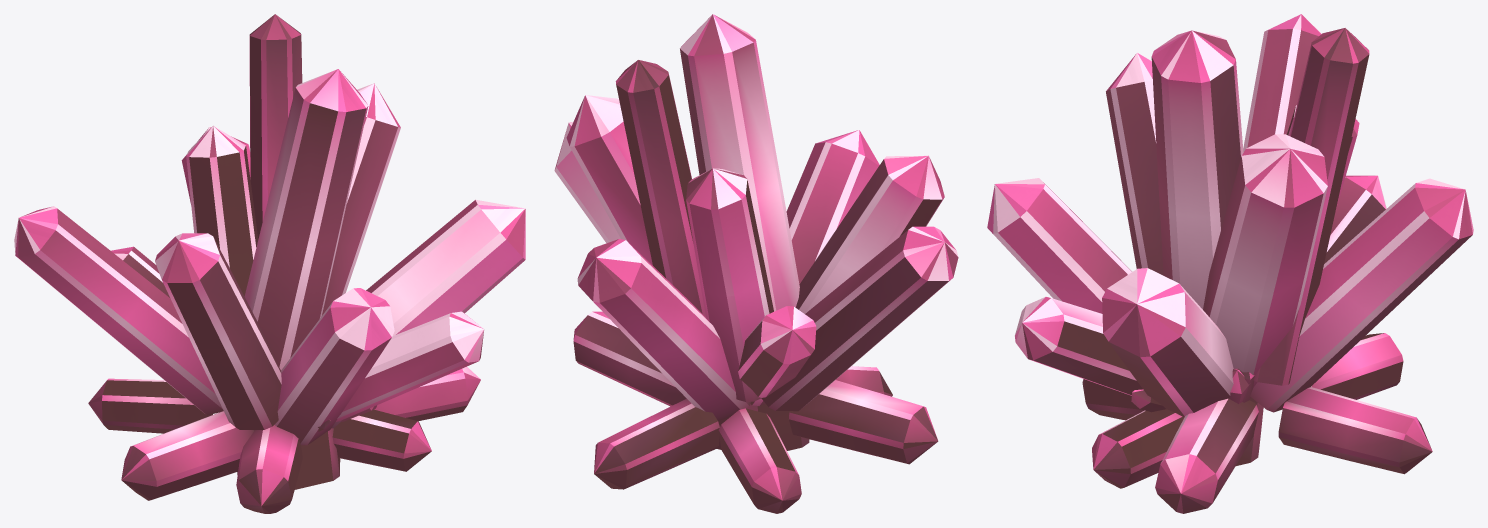
File: mm6_deco_crystl0.glb
3 renders of one model, left to right at view 1: azimuth 30°, elevation 25°; view 2: azimuth 150°, elevation 25°; view 3: azimuth 270°, elevation 25°, orthographic. The views are drawn at different scales.
Parts seen in each view (by area): view 1: Crystl0; view 2: Crystl0; view 3: Crystl0.
Boxes of the visible parts, box(x1,y1,x2,y2) form: Crystl0: box(14, 14, 525, 513); Crystl0: box(554, 14, 958, 513); Crystl0: box(987, 14, 1473, 513).
Size of the model in its own units: 1.29 by 1.1 by 1.09.
1 material, 1 textured.
